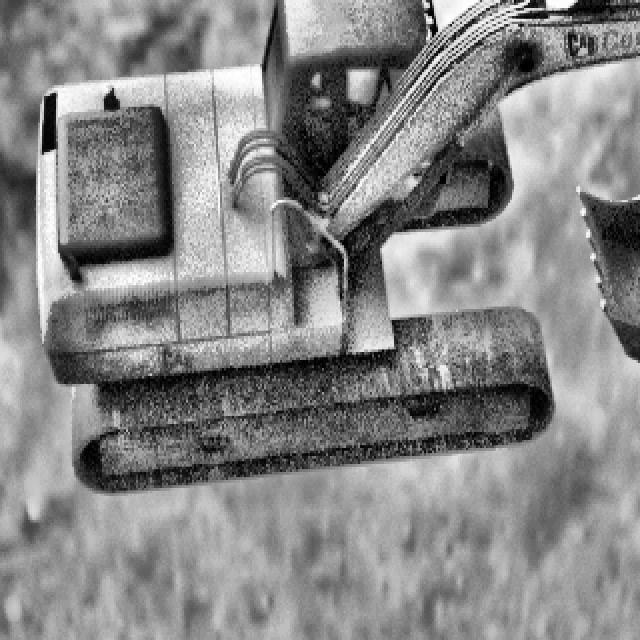excavator: (34, 0, 640, 491)
